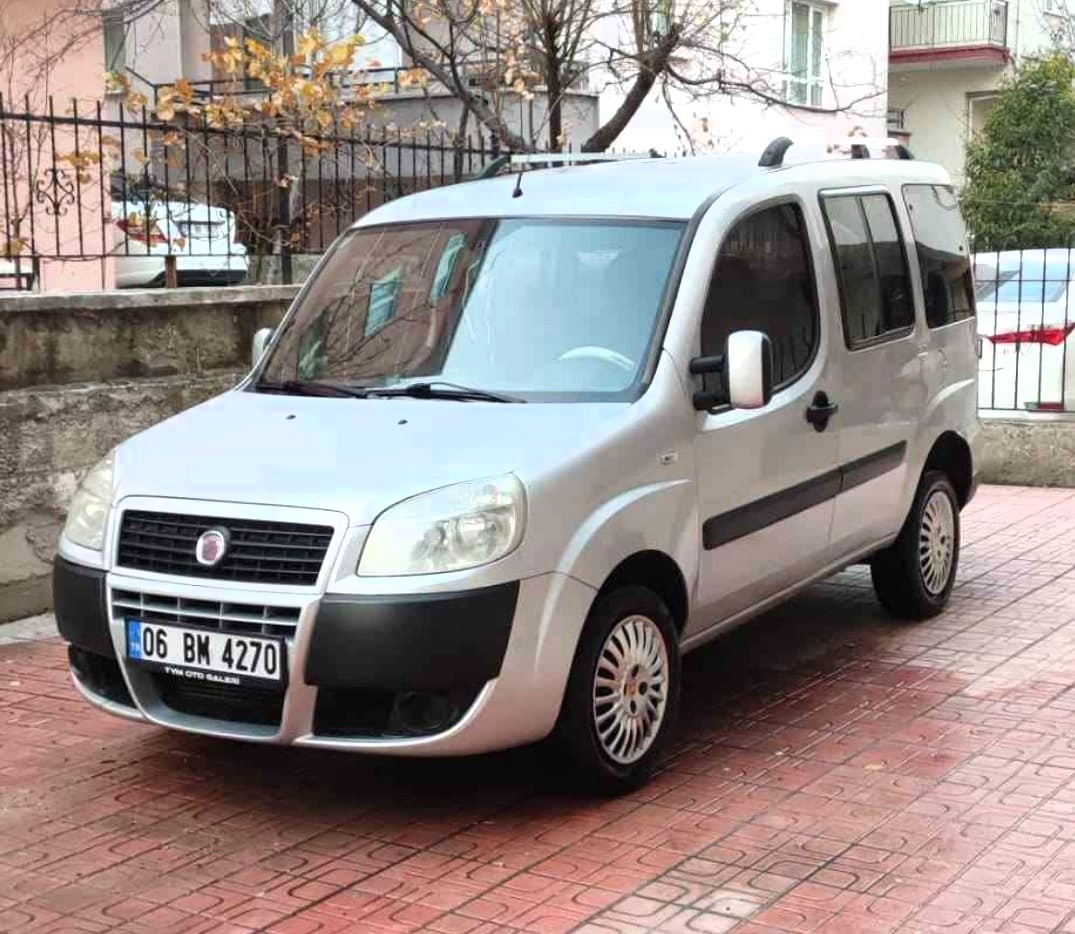plaka: (131, 623, 279, 681)
